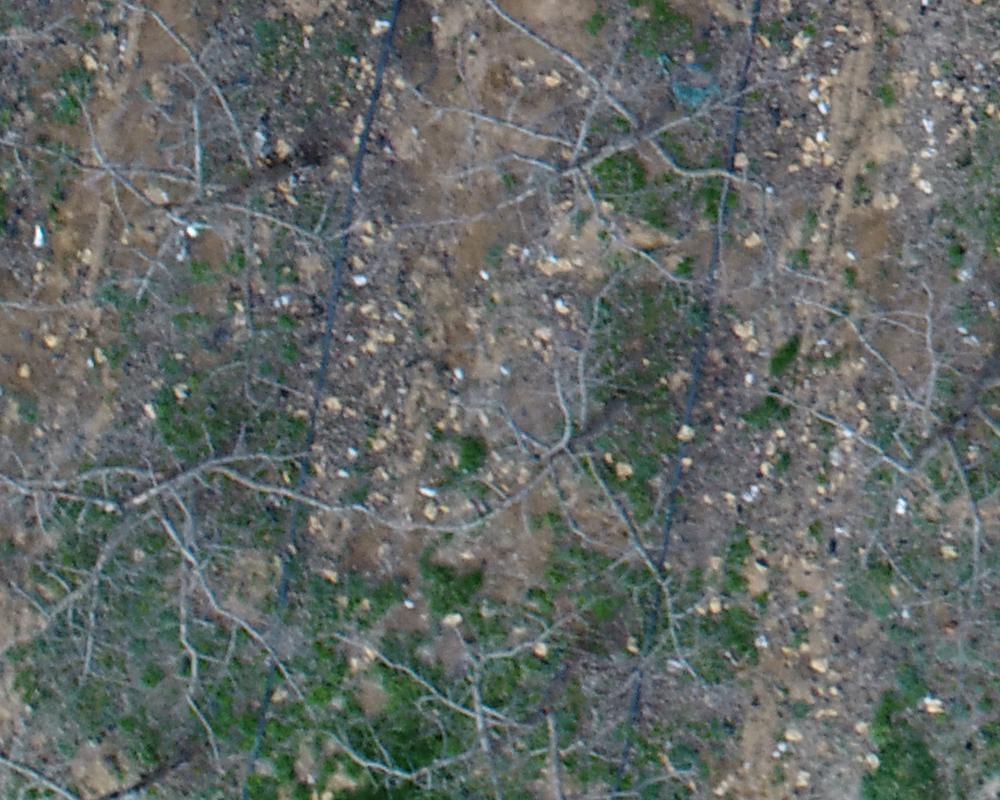apple: (376, 266, 746, 699), (10, 401, 389, 783), (373, 10, 779, 306), (10, 10, 368, 312), (748, 250, 990, 592)
